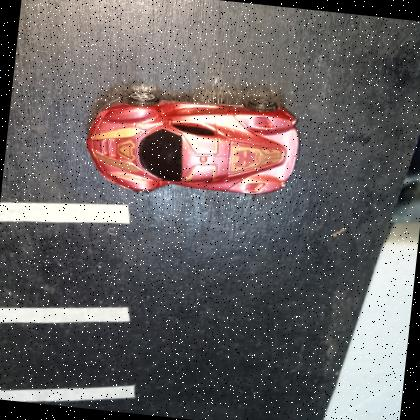Car: (78, 77, 304, 212)
